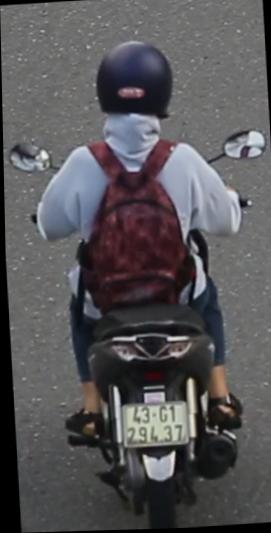LP: (115, 395, 189, 451)
helmet: (89, 34, 181, 134)
